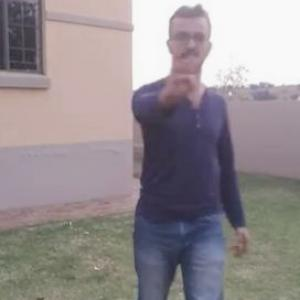takeoff-hand: (158, 46, 203, 110)
